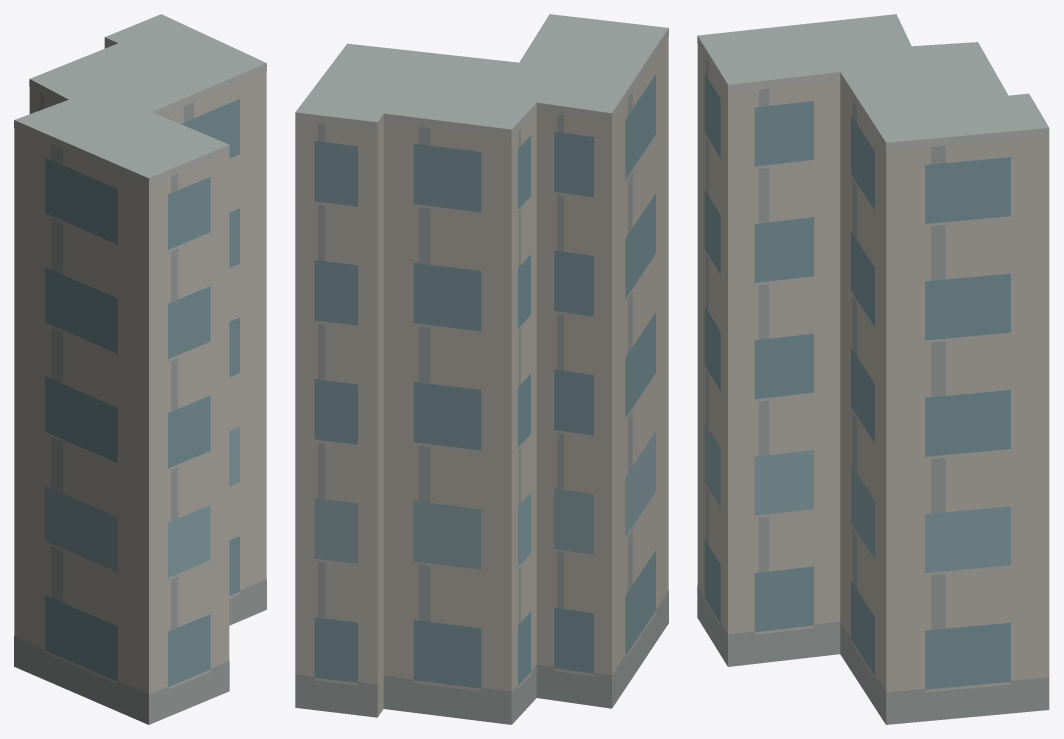
The model's file is survey-upis-32582840.glb.
3 renders of one model, left to right at view 1: azimuth 30°, elevation 25°; view 2: azimuth 150°, elevation 25°; view 3: azimuth 270°, elevation 25°, orthographic. The views are drawn at different scales.
Parts seen in each view (by area): view 1: survey-upis-32582840.tmp; view 2: survey-upis-32582840.tmp; view 3: survey-upis-32582840.tmp.
Boxes of the visible parts, <box> form: survey-upis-32582840.tmp: <box>14,14,266,724</box>; survey-upis-32582840.tmp: <box>295,14,668,724</box>; survey-upis-32582840.tmp: <box>697,14,1049,724</box>.
Size of the model in its own units: 8 by 16.83 by 9.23.
